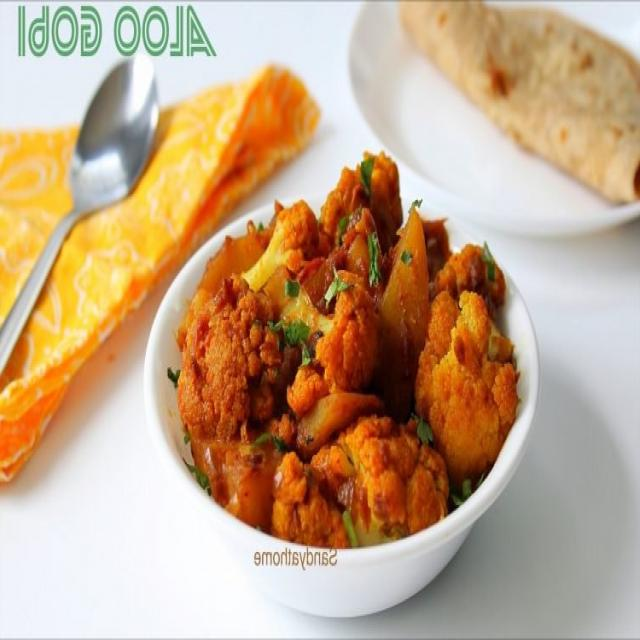Aloo Gobi: (207, 149, 466, 547)
